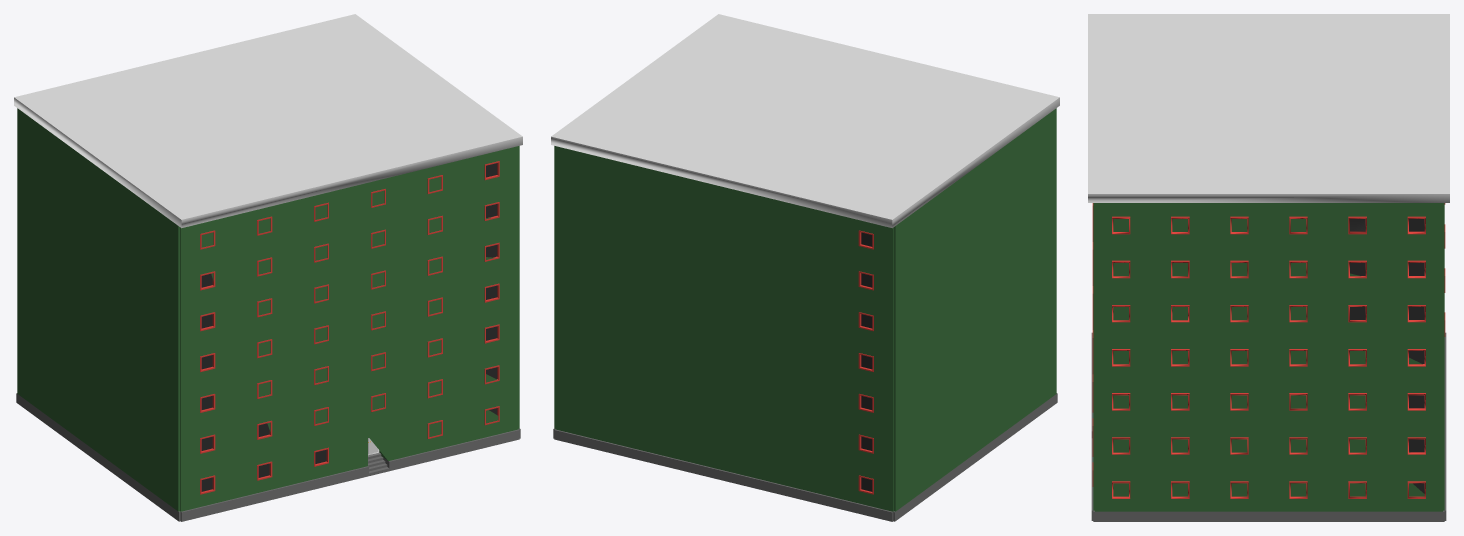
Rendered from BCR30_F07_01.fbx.
3 renders of one model, left to right at view 1: azimuth 30°, elevation 25°; view 2: azimuth 150°, elevation 25°; view 3: azimuth 270°, elevation 25°, orthographic. The views are drawn at different scales.
Parts seen in each view (by area): view 1: BCR30_F07_01; view 2: BCR30_F07_01; view 3: BCR30_F07_01.
Part boxes in pixels (x1=…): BCR30_F07_01: x1=14, y1=14, x2=522, y2=521; BCR30_F07_01: x1=551, y1=14, x2=1059, y2=521; BCR30_F07_01: x1=1088, y1=14, x2=1449, y2=521.
Size of the model in its own units: 3015 by 2550 by 2550.
